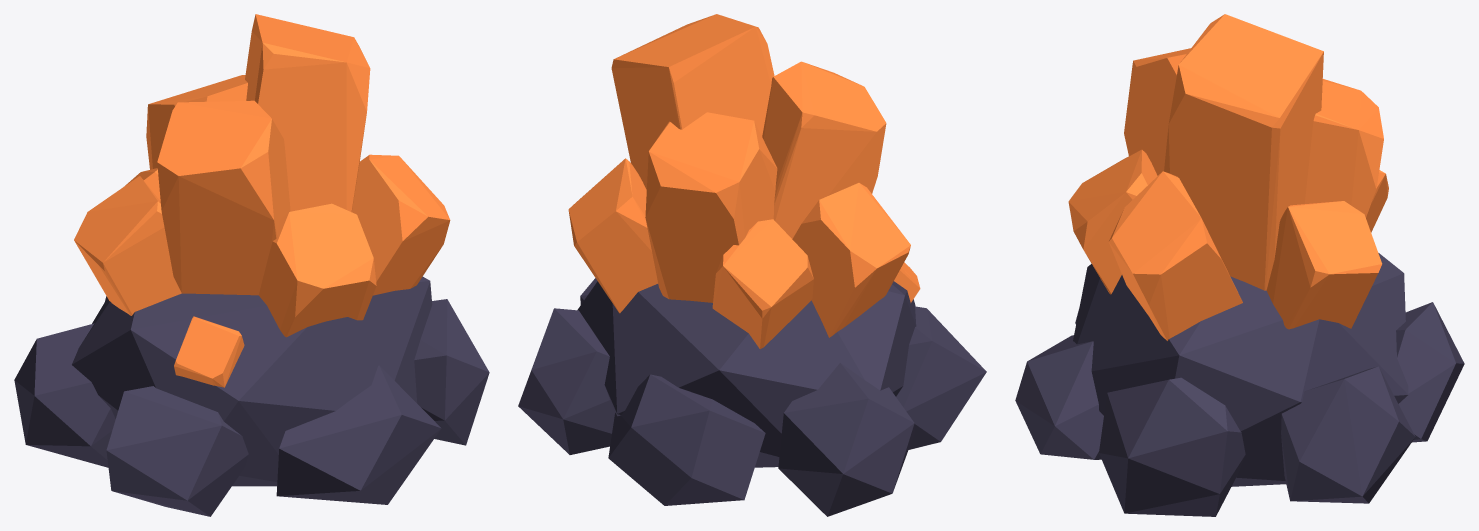
The model's file is Ore_Copper.fbx.
3 renders of one model, left to right at view 1: azimuth 30°, elevation 25°; view 2: azimuth 150°, elevation 25°; view 3: azimuth 270°, elevation 25°, orthographic. The views are drawn at different scales.
Parts seen in each view (by area): view 1: Ore_Rock, Ore_Crystal; view 2: Ore_Crystal, Ore_Rock; view 3: Ore_Rock, Ore_Crystal.
Boxes of the visible parts, box(x1,y1,x2,y2) form: Ore_Rock: box(14, 276, 489, 516); Ore_Crystal: box(74, 14, 450, 387); Ore_Crystal: box(568, 14, 920, 348); Ore_Rock: box(518, 278, 986, 516); Ore_Rock: box(1015, 253, 1464, 516); Ore_Crystal: box(1068, 14, 1388, 340).
Size of the model in its own units: 1.85 by 2 by 1.85.
